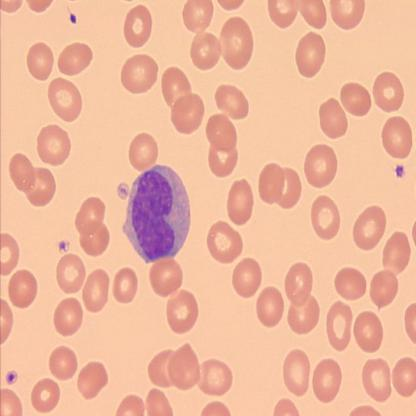Monocyte: (121, 162, 192, 265)
